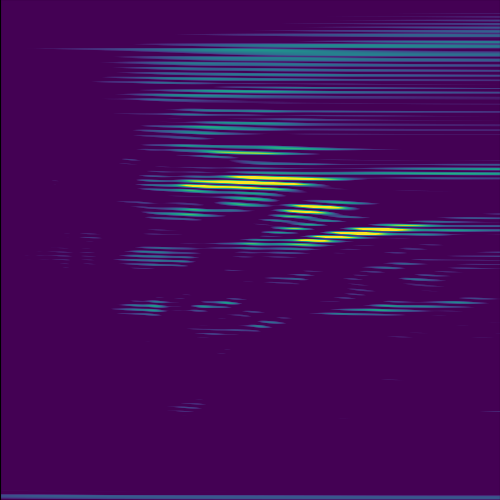semblance: (159, 172, 349, 197), (287, 218, 429, 247), (261, 197, 369, 223)
